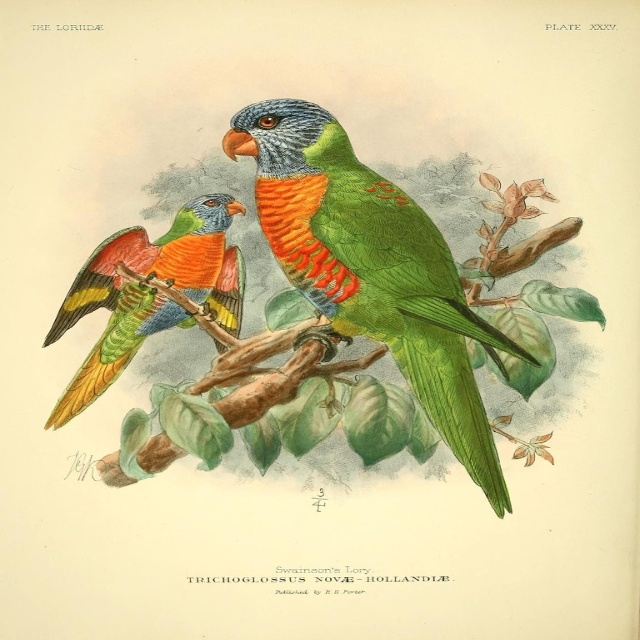Parrot: (213, 92, 516, 519), (30, 186, 248, 432)
